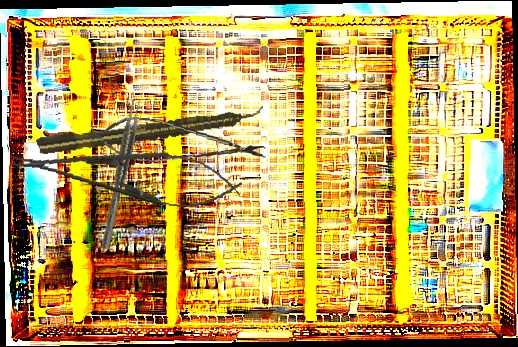Handpiece: (35, 104, 266, 157)
Micro Scissor: (87, 113, 269, 172)
Needle Holder: (7, 133, 245, 215)
Tissue Forceps: (96, 98, 144, 251)
